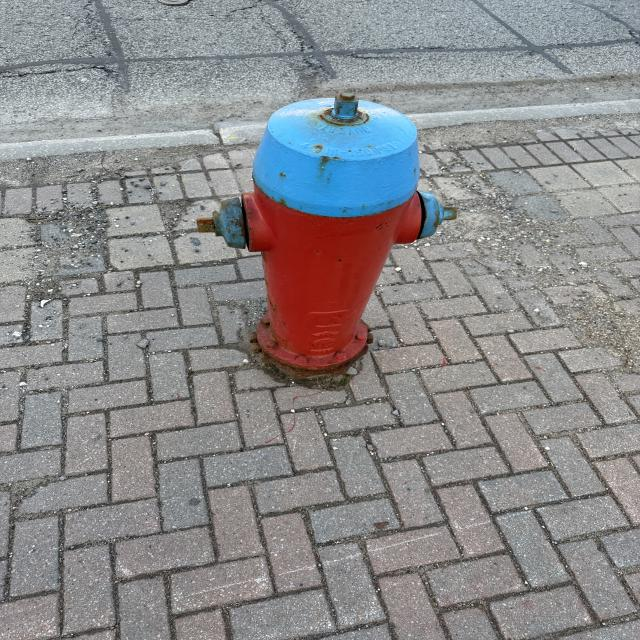Fire hydrant: (196, 91, 458, 379)
